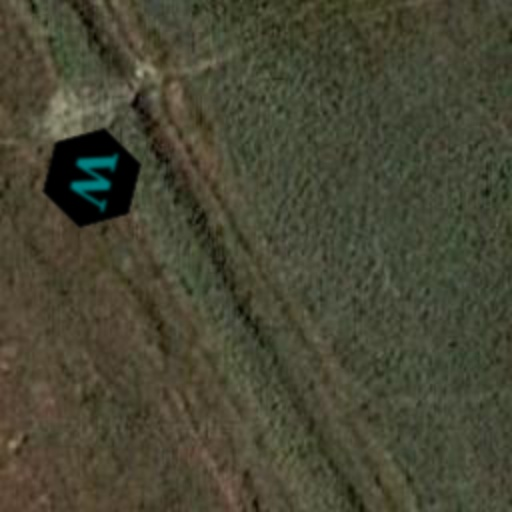hexagon: (28, 114, 156, 242)
